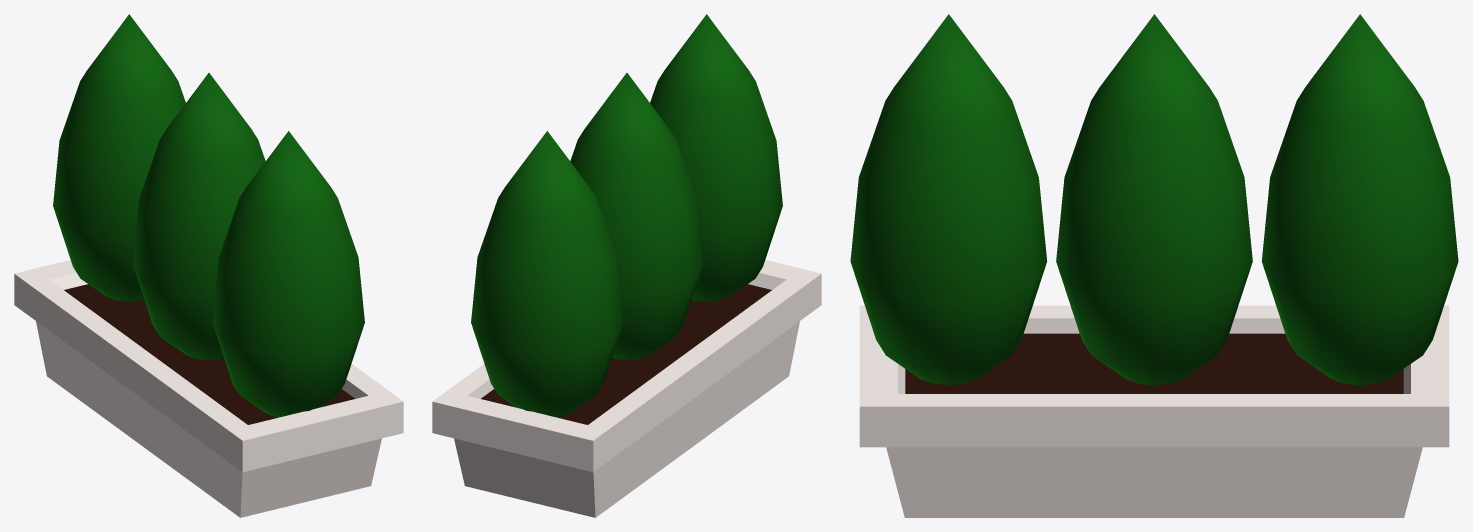
File: chau 3 cay canh.FBX
3 renders of one model, left to right at view 1: azimuth 30°, elevation 25°; view 2: azimuth 150°, elevation 25°; view 3: azimuth 270°, elevation 25°, orthographic. The views are drawn at different scales.
Visible parts, largest first — view 1: Box1902; view 2: Box1902; view 3: Box1902.
Boxes of the visible parts, x1=… form: Box1902: x1=14, y1=14, x2=403, y2=517; Box1902: x1=432, y1=14, x2=821, y2=517; Box1902: x1=850, y1=14, x2=1458, y2=517.
Size of the model in its own units: 1.67 by 3.56 by 4.23.
